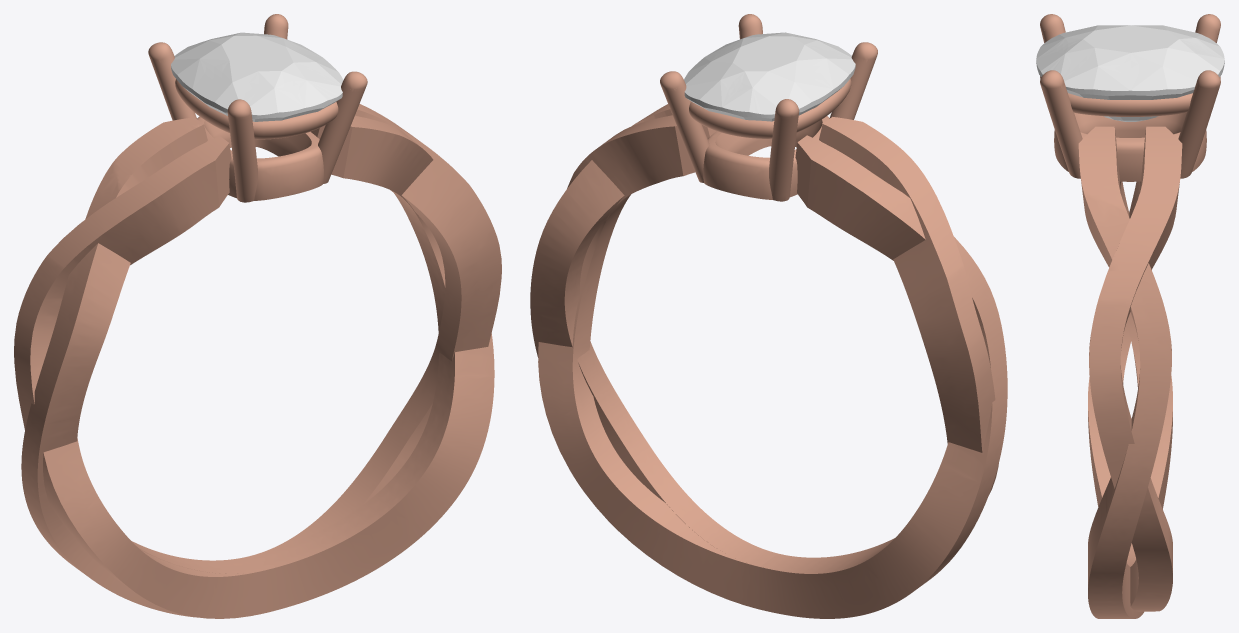
The model's file is diamond-cushion-rosegold-4prong-twist-nosidestones.glb.
3 renders of one model, left to right at view 1: azimuth 30°, elevation 25°; view 2: azimuth 150°, elevation 25°; view 3: azimuth 270°, elevation 25°, orthographic.
Visible parts, largest first — view 1: metal, stone; view 2: metal, stone; view 3: metal, stone.
Boxes of the visible parts, left/top/right/bottom form: metal: left=14, top=14, right=501, bottom=618; stone: left=171, top=32, right=343, bottom=121; metal: left=530, top=14, right=1007, bottom=618; stone: left=684, top=32, right=855, bottom=121; metal: left=1040, top=14, right=1220, bottom=618; stone: left=1036, top=25, right=1224, bottom=121.
Bounding box in the file's own units: 19.97 × 23.14 × 7.15.
